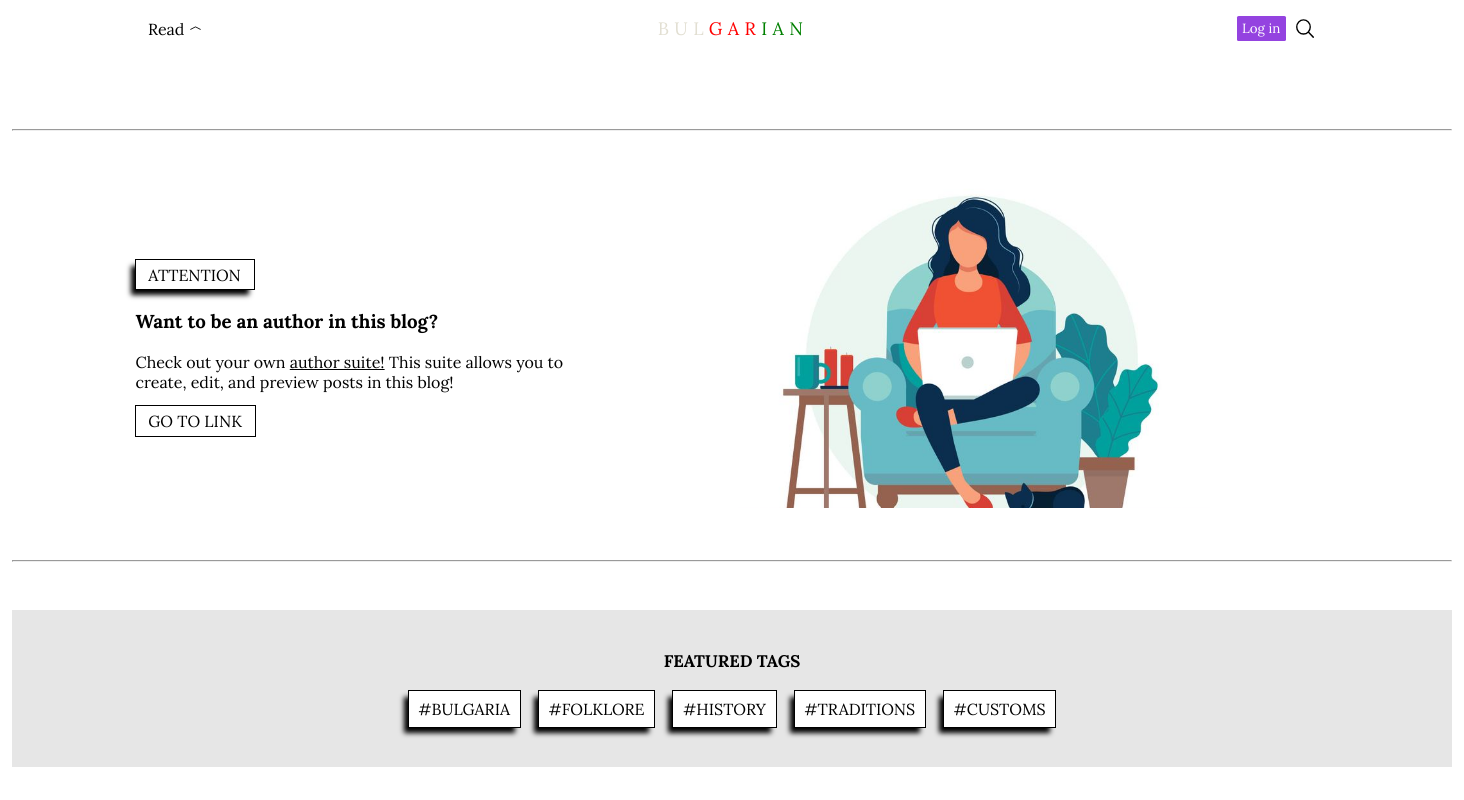
Test case: Should render NavComponent › should render NavComponent navigation links
Click the list item with test id "read" at (175, 28), box [148,18,202,38]
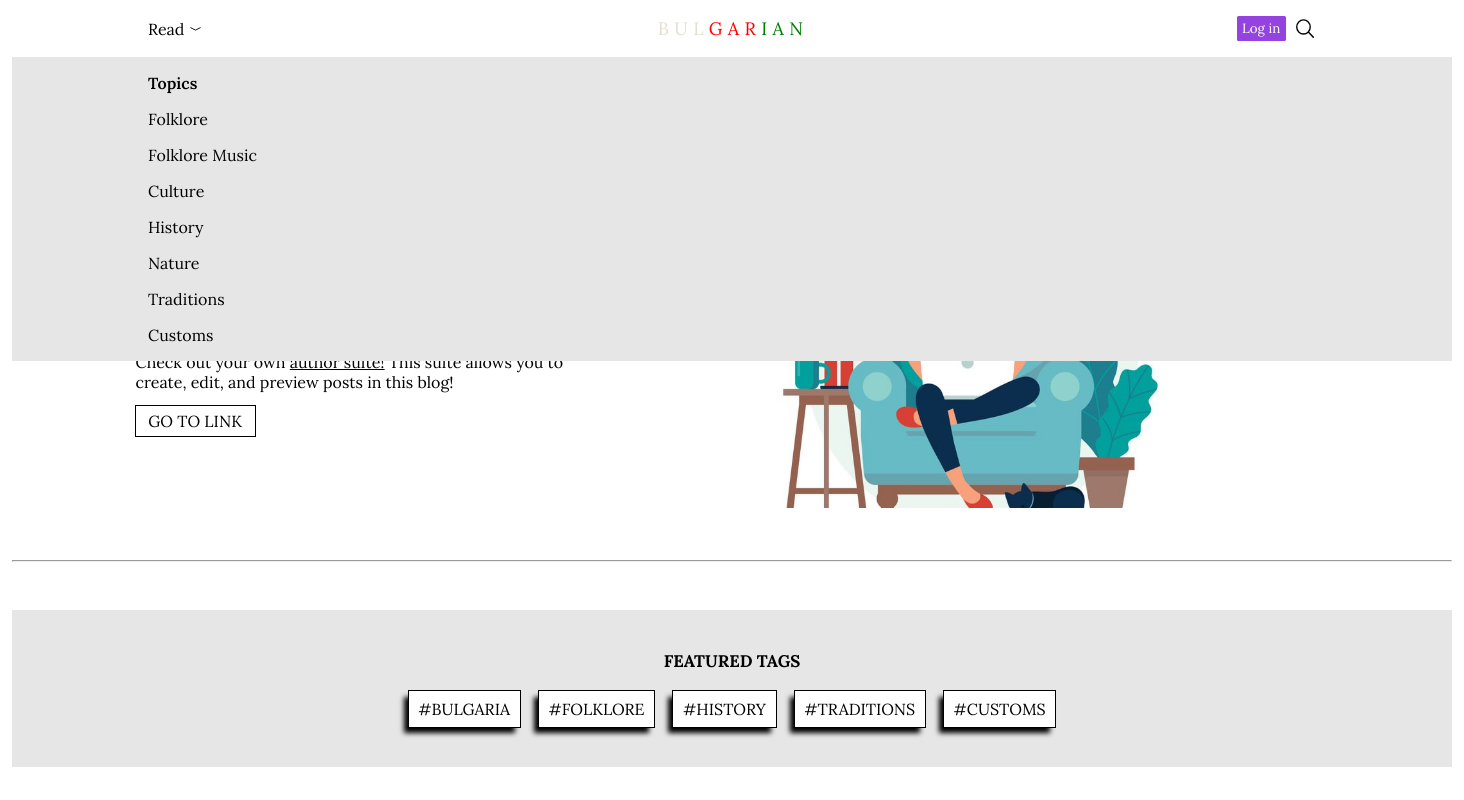
Expected: the heading "Topics" is shown, [148,73,197,93]
Expected: the link "Folklore" is shown, [148,109,208,129]
Expected: the link "Folklore Music" is shown, [148,145,257,165]
